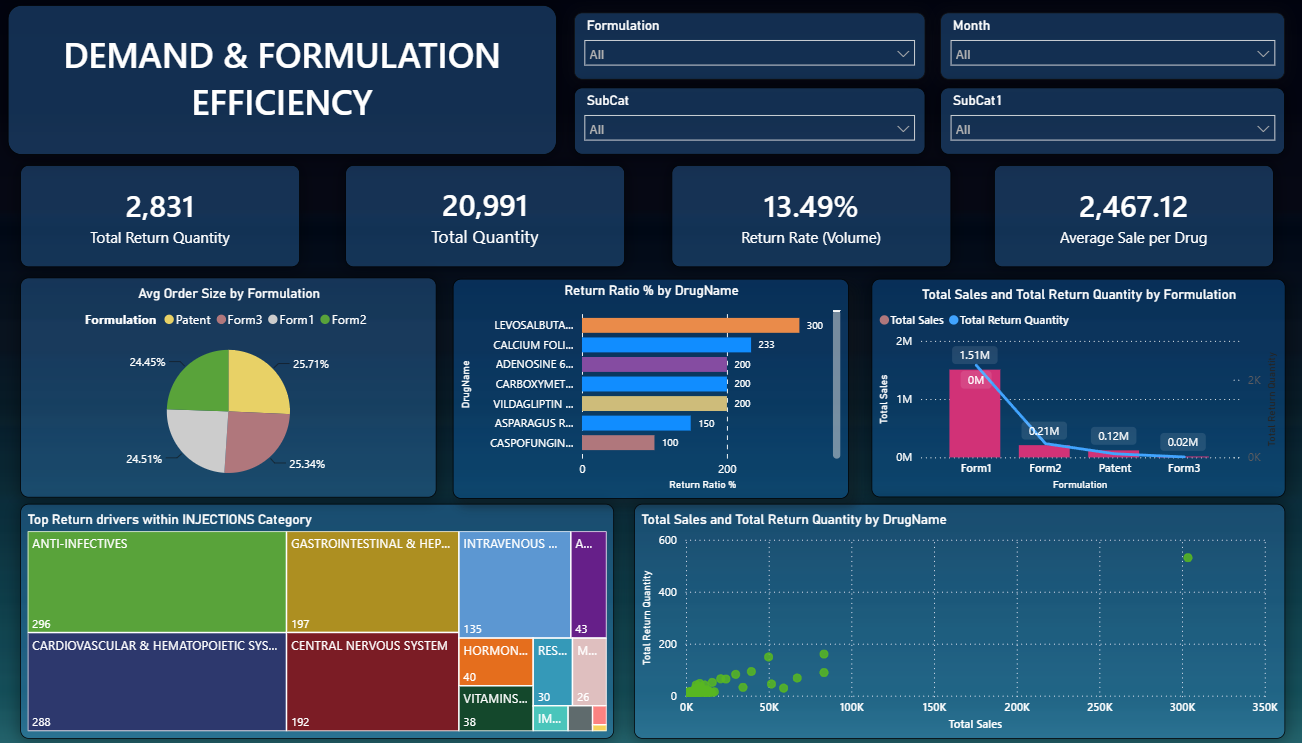

The page's visual inventory and layout, read from the dashboard file:
{"tool":"powerbi","page":{"name":"Dashboard 2","canvas":[1400,800],"ordinal":1},"visuals":[{"type":"cardVisual","fields":{"Data":["Dash 2 DAX House.Total Quantity"]},"box":[371.3,176.9,300.3,109.9],"z":0},{"type":"cardVisual","fields":{"Data":["Dash 2 DAX House.Total Return Quantity"]},"box":[22.8,176.9,300.3,109.9],"z":1000},{"type":"cardVisual","fields":{"Data":["Dash 2 DAX House.Return Rate (Volume)"]},"box":[721.2,176.9,300.3,109.9],"z":2000},{"type":"cardVisual","fields":{"Data":["Dash 2 DAX House.Average Sale per Drug"]},"box":[1067,176.9,300.3,109.9],"z":3000},{"type":"lineClusteredColumnComboChart","fields":{"Category":["DimProduct.Formulation"],"Y":["Dash 1 DAX House.Total Sales"],"Y2":["Dash 2 DAX House.Total Return Quantity"]},"box":[935.7,298.9,443.7,234.6],"z":4000},{"type":"treemap","title":"Top Return drivers within INJECTIONS Category","fields":{"Group":["DimProduct.SubCat1","DimProduct.SubCat"],"Values":["Dash 2 DAX House.Total Return Quantity"]},"box":[22.8,540.2,636.7,252],"z":5000},{"type":"scatterChart","fields":{"Category":["DimProduct.DrugName"],"X":["Dash 1 DAX House.Total Sales"],"Y":["Dash 2 DAX House.Total Return Quantity"]},"box":[681,540.2,698.4,252],"z":6000},{"type":"pieChart","fields":{"Category":["DimProduct.Formulation"],"Y":["Dash 2 DAX House.Avg Order Size"]},"box":[22.8,297.6,446.4,235.9],"z":7000},{"type":"textbox","box":[9.4,5.4,588.5,160.9],"z":9000},{"type":"slicer","fields":{"Values":["DimProduct.Formulation"]},"box":[616.6,13.4,376.7,72.4],"z":10000},{"type":"slicer","fields":{"Values":["DimDate.Dateofbill.Variation.Date Hierarchy.Month"]},"box":[1009.4,13.4,370,72.4],"z":11000},{"type":"slicer","fields":{"Values":["DimProduct.SubCat"]},"box":[616.6,93.8,376.7,72.4],"z":12000},{"type":"slicer","fields":{"Values":["DimProduct.SubCat1"]},"box":[1009.4,93.8,370,72.4],"z":13000},{"type":"clusteredBarChart","fields":{"Category":["DimProduct.DrugName"],"Y":["Dash 2 DAX House.Return Ratio %"]},"box":[486.6,298.9,424.9,235.9],"z":14000}]}

Visuals, with their boxes in screenshot pixels (x1, y1, x2, y2), scaled from the page's 1400x800 canvas onto the 1302x743 screenshot:
cardVisual - Dash 2 DAX House.Total Quantity: bbox=[345, 164, 625, 266]
cardVisual - Dash 2 DAX House.Total Return Quantity: bbox=[21, 164, 300, 266]
cardVisual - Dash 2 DAX House.Return Rate (Volume): bbox=[671, 164, 950, 266]
cardVisual - Dash 2 DAX House.Average Sale per Drug: bbox=[992, 164, 1272, 266]
lineClusteredColumnComboChart - DimProduct.Formulation x Dash 1 DAX House.Total Sales: bbox=[870, 278, 1283, 495]
"Top Return drivers within INJECTIONS Category" treemap: bbox=[21, 502, 613, 736]
scatterChart - DimProduct.DrugName x Dash 1 DAX House.Total Sales: bbox=[633, 502, 1283, 736]
pieChart - DimProduct.Formulation x Dash 2 DAX House.Avg Order Size: bbox=[21, 276, 436, 495]
textbox: bbox=[9, 5, 556, 154]
slicer - DimProduct.Formulation: bbox=[573, 12, 924, 80]
slicer - DimDate.Dateofbill.Variation.Date Hierarchy.Month: bbox=[939, 12, 1283, 80]
slicer - DimProduct.SubCat: bbox=[573, 87, 924, 154]
slicer - DimProduct.SubCat1: bbox=[939, 87, 1283, 154]
clusteredBarChart - DimProduct.DrugName x Dash 2 DAX House.Return Ratio %: bbox=[453, 278, 848, 497]
